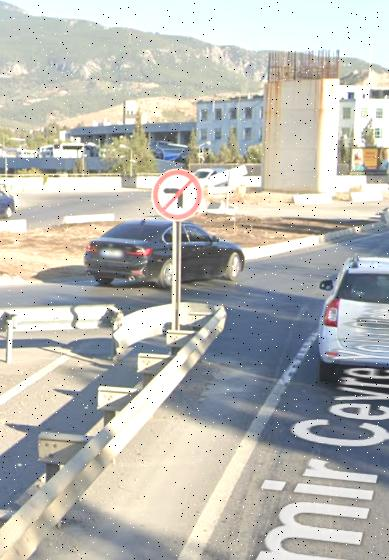leftturnsareforbidden: (152, 172, 203, 224)
